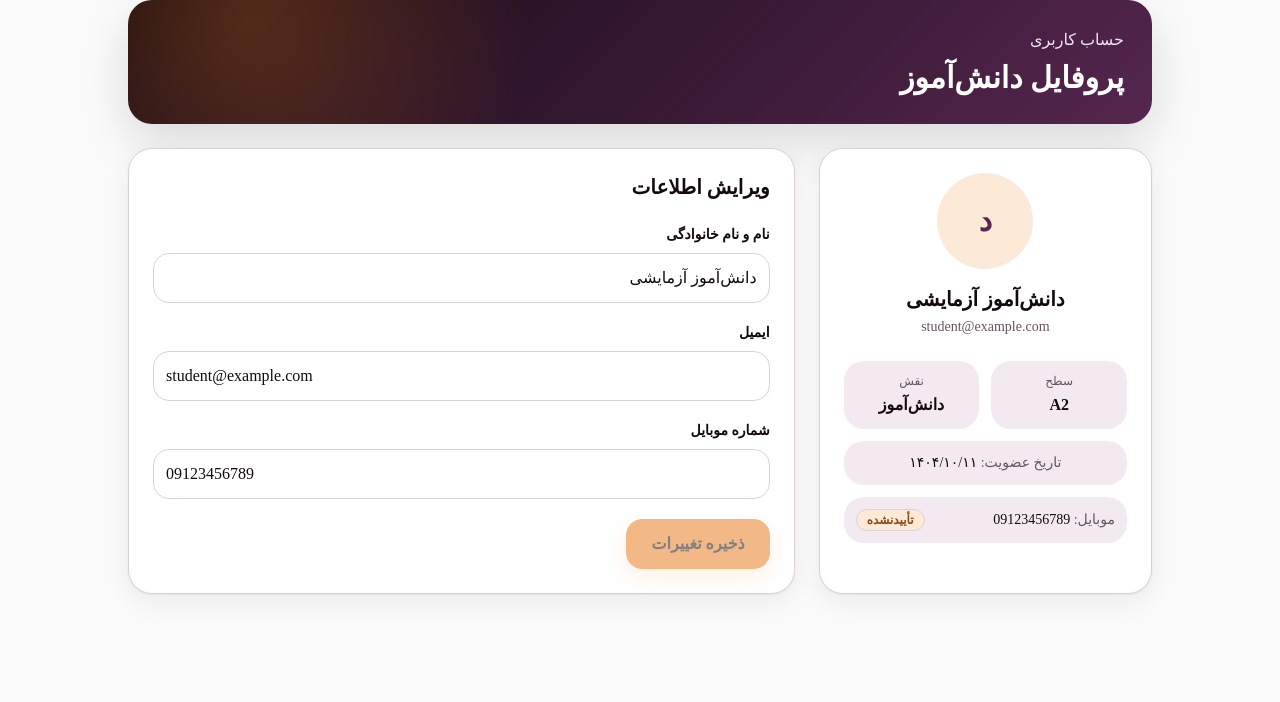
Scenario: ProfilePage editing › sends a new phone number normalized and shows server field errors
Type "+98 935 000 1122" into the field labelled "شماره موبایل" at {"x": 461, "y": 474}, box 153,449 -> 770,499
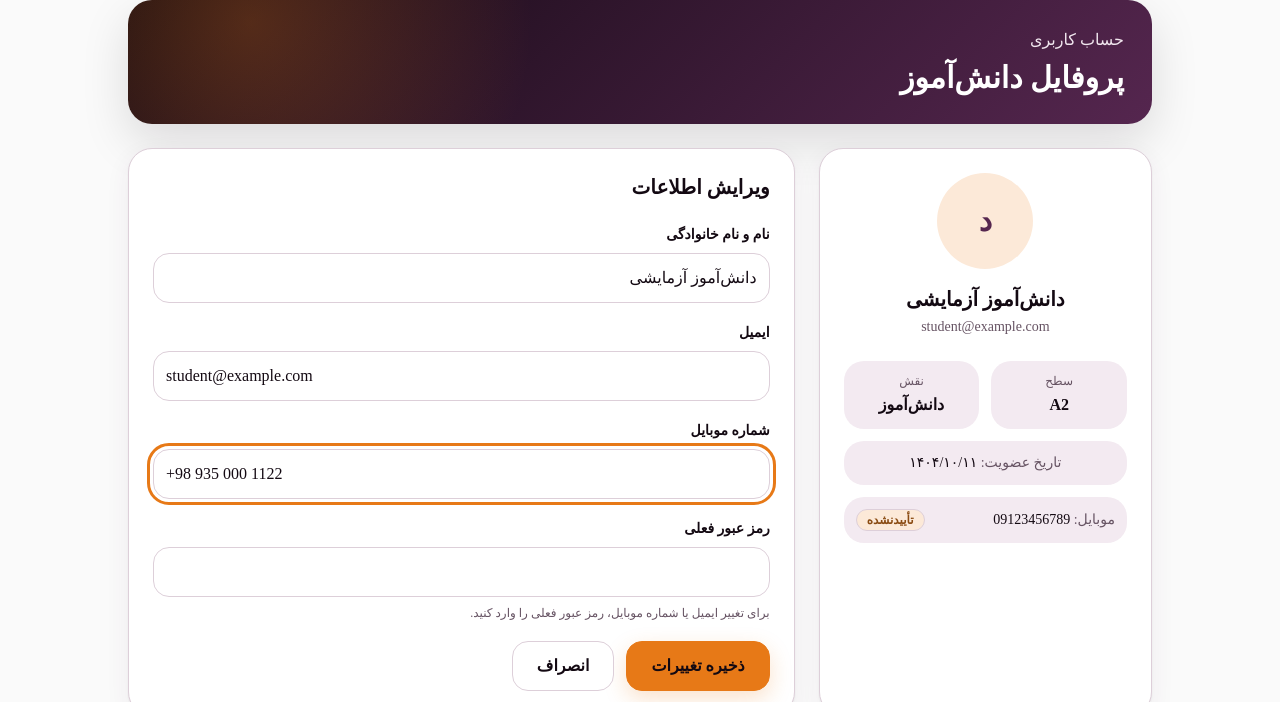
Type "wrong" into the password field labelled "رمز عبور فعلی" at {"x": 461, "y": 572}, box 153,547 -> 770,597
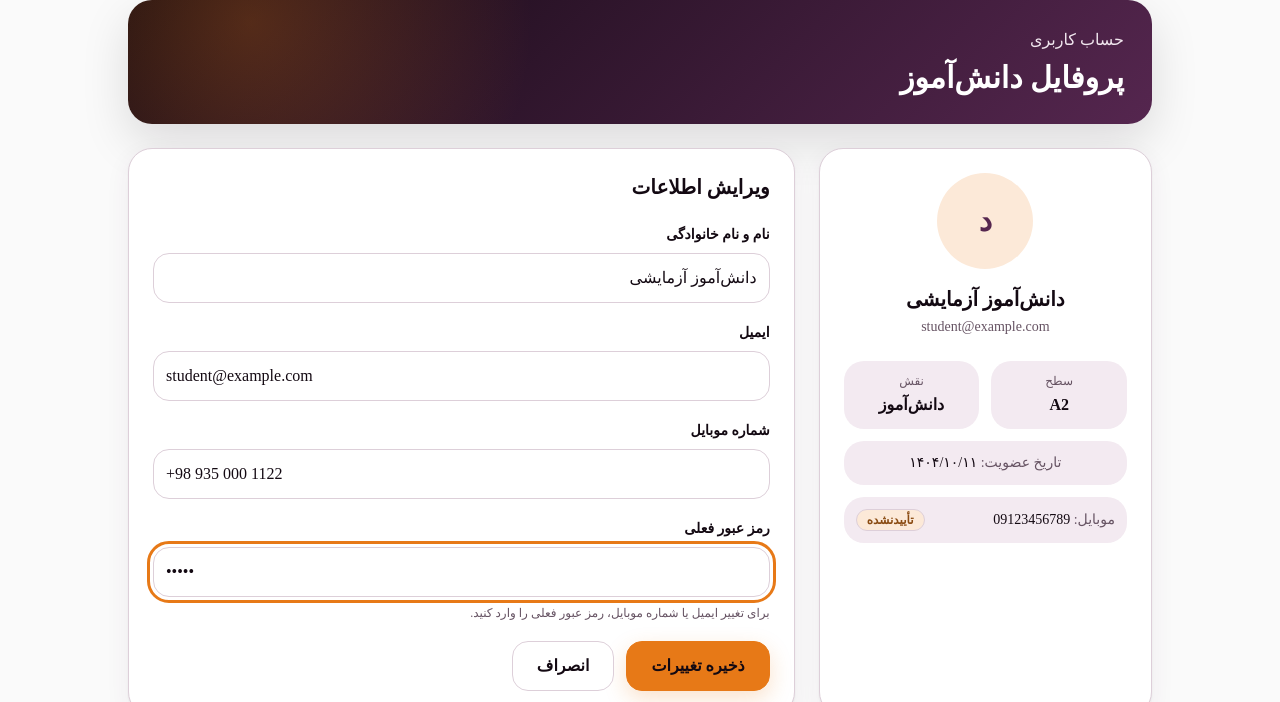
Click the button "ذخیره تغییرات" at {"x": 698, "y": 666}, box 626,641 -> 770,691
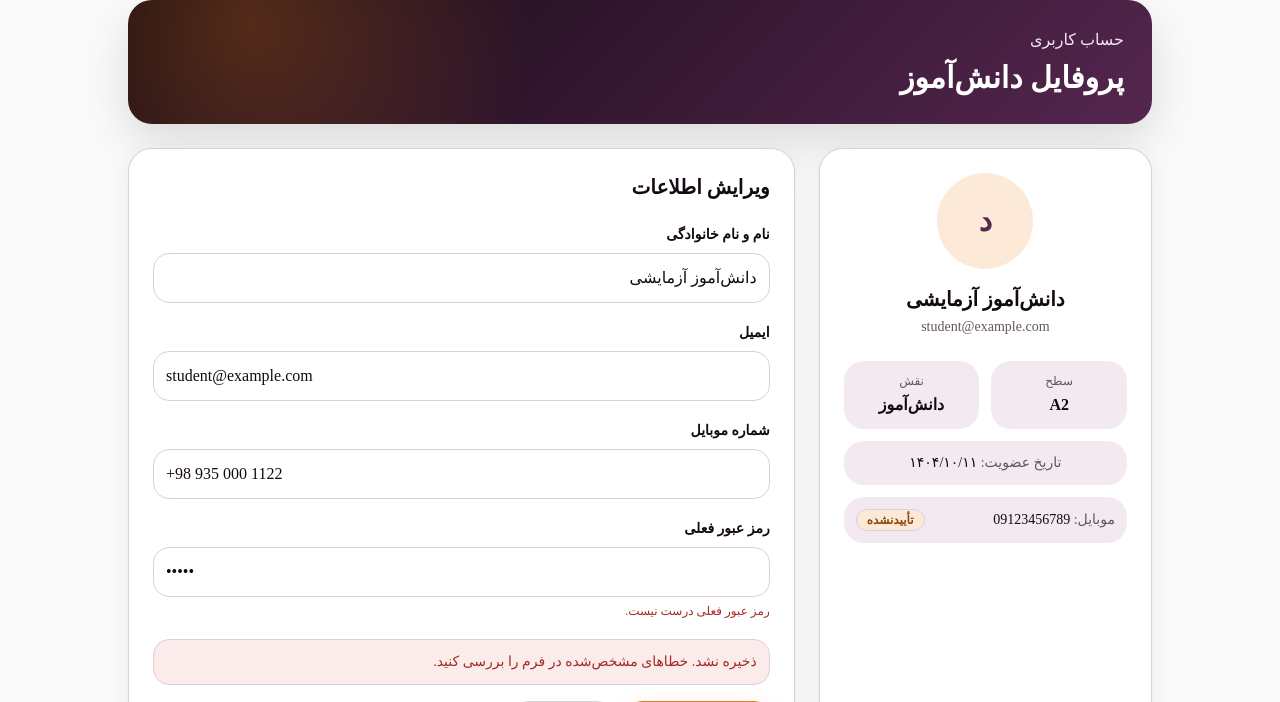
Expected: the text "رمز عبور فعلی درست نیست." is shown, 625,604 -> 770,618
Expected: the text "ذخیره نشد. خطاهای مشخص‌شده در فرم را بررسی کنید." is shown, 153,639 -> 770,685
